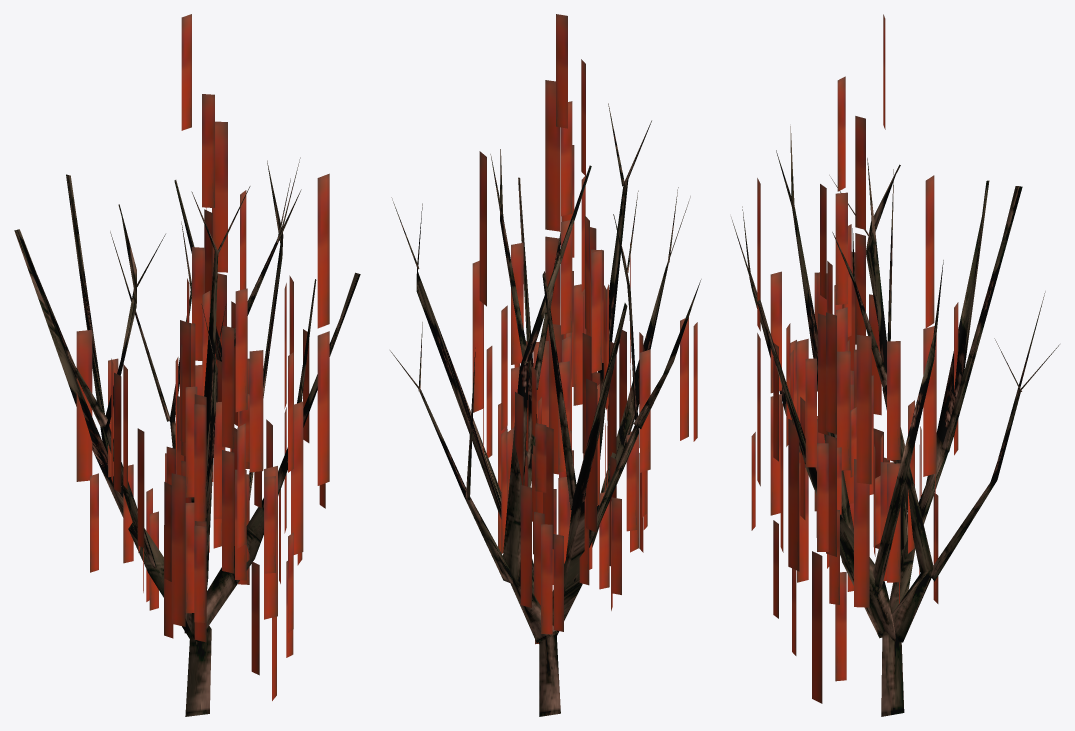
Rendered from RedTree_5.gltf.
3 views of the same model, side by side, from view 1: azimuth 30°, elevation 25°; view 2: azimuth 150°, elevation 25°; view 3: azimuth 270°, elevation 25° (orthographic).
Parts seen in each view (by area): view 1: RedTree_5; view 2: RedTree_5; view 3: RedTree_5.
Boxes of the visible parts, <box> form: RedTree_5: <box>14,14,360,716</box>; RedTree_5: <box>390,14,701,716</box>; RedTree_5: <box>731,14,1059,716</box>.
Size of the model in its own units: 3.22 by 7.49 by 3.25.
Materials: 90 (90 with a texture image).
